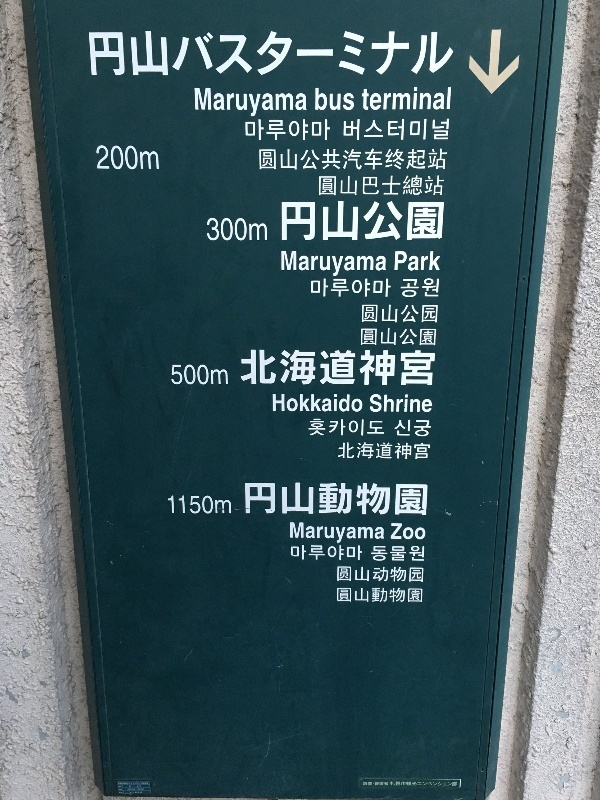text: (97, 29, 112, 82), (113, 29, 128, 82), (129, 29, 144, 82), (145, 29, 160, 82), (161, 29, 176, 82), (177, 29, 192, 82), (193, 29, 208, 82), (209, 29, 224, 82), (225, 29, 240, 82), (241, 29, 256, 82), (257, 29, 272, 82), (273, 29, 288, 82), (289, 29, 304, 82), (305, 29, 320, 82), (321, 29, 336, 82), (337, 29, 352, 82), (353, 29, 368, 82), (369, 29, 384, 82), (385, 29, 400, 82), (401, 29, 416, 82), (417, 29, 432, 82), (433, 29, 448, 82), (241, 345, 256, 390), (257, 345, 272, 390), (273, 345, 288, 390), (289, 345, 304, 390), (305, 345, 320, 390), (321, 345, 336, 390), (337, 345, 352, 390), (353, 345, 368, 390), (369, 345, 384, 390), (385, 345, 400, 390), (401, 345, 416, 390), (417, 345, 432, 390), (289, 200, 304, 244), (305, 200, 320, 244), (321, 200, 336, 244), (337, 200, 352, 244), (353, 200, 368, 244), (369, 200, 384, 244), (385, 200, 400, 244), (401, 200, 416, 244), (417, 200, 432, 244), (257, 479, 272, 521), (273, 479, 288, 521), (289, 479, 304, 521), (305, 479, 320, 521), (321, 479, 336, 521), (337, 479, 352, 521), (353, 479, 368, 521), (369, 479, 384, 521), (385, 479, 400, 521), (401, 479, 416, 521), (433, 200, 446, 244), (145, 142, 161, 174), (244, 479, 256, 521), (417, 479, 429, 521), (97, 142, 112, 174), (113, 142, 128, 174), (129, 142, 144, 174), (87, 29, 96, 82), (209, 85, 224, 116), (225, 85, 240, 116), (241, 85, 256, 116), (257, 85, 272, 116), (273, 85, 288, 116), (289, 85, 304, 116), (209, 216, 224, 246), (225, 216, 240, 246), (241, 216, 256, 246), (289, 249, 304, 279), (305, 249, 320, 279), (321, 249, 336, 279), (337, 249, 352, 279), (353, 249, 368, 279), (369, 249, 384, 279), (369, 85, 384, 114), (385, 85, 400, 114), (401, 85, 416, 114), (417, 85, 432, 114), (433, 85, 448, 114), (257, 116, 272, 145), (273, 116, 288, 145), (289, 116, 304, 145), (305, 116, 320, 145), (194, 85, 208, 116), (321, 87, 336, 115), (337, 87, 352, 115), (353, 117, 368, 144), (369, 117, 384, 144), (385, 117, 400, 144), (401, 117, 416, 144), (417, 117, 432, 144), (433, 117, 448, 144), (273, 147, 288, 174), (289, 147, 304, 174), (305, 147, 320, 174), (321, 147, 336, 174), (337, 147, 352, 174), (353, 147, 368, 174), (369, 147, 384, 174), (385, 147, 400, 174), (401, 147, 416, 174), (417, 147, 432, 174), (433, 147, 448, 174), (401, 249, 416, 276), (417, 249, 432, 276), (401, 275, 416, 302), (417, 275, 432, 302), (177, 362, 192, 389), (193, 362, 208, 389), (209, 362, 224, 389), (385, 390, 400, 416), (401, 390, 416, 416), (417, 390, 432, 416), (258, 147, 272, 174), (321, 174, 336, 199), (337, 174, 352, 199), (353, 174, 368, 199), (369, 174, 384, 199), (385, 174, 400, 199), (401, 174, 416, 199), (417, 174, 432, 199), (321, 276, 336, 301), (337, 276, 352, 301), (353, 276, 368, 301), (369, 276, 384, 301), (369, 302, 384, 327), (385, 302, 400, 327), (401, 302, 416, 327), (417, 302, 432, 327), (369, 326, 384, 351), (385, 326, 400, 351), (401, 326, 416, 351), (417, 326, 432, 351), (401, 416, 416, 441), (417, 416, 432, 441), (177, 493, 192, 518), (193, 493, 208, 518), (209, 493, 224, 518), (369, 416, 385, 439), (369, 519, 385, 542), (370, 390, 384, 416), (273, 392, 288, 415), (289, 392, 304, 415), (305, 392, 320, 415), (321, 392, 336, 415), (337, 392, 352, 415), (321, 416, 336, 439), (337, 416, 352, 439), (353, 416, 368, 439), (305, 519, 320, 542), (321, 519, 336, 542), (337, 519, 352, 542), (353, 519, 368, 542), (257, 216, 268, 246), (305, 542, 320, 564), (321, 542, 336, 564), (337, 542, 352, 564), (337, 564, 352, 586), (353, 564, 368, 586), (369, 564, 384, 586), (385, 564, 400, 586), (401, 564, 416, 586), (433, 174, 446, 199), (290, 519, 304, 542), (245, 116, 256, 145), (321, 116, 332, 145), (449, 29, 455, 82), (337, 441, 352, 462), (353, 441, 368, 462), (369, 441, 384, 462), (385, 441, 400, 462), (401, 441, 416, 462), (417, 441, 432, 462), (401, 521, 416, 542), (385, 544, 400, 565), (401, 544, 416, 565), (337, 586, 352, 607), (353, 586, 368, 607), (369, 586, 384, 607), (385, 586, 400, 607), (401, 586, 416, 607), (281, 200, 288, 244), (290, 542, 304, 564), (371, 544, 384, 565), (353, 392, 364, 415), (309, 416, 320, 439), (343, 117, 352, 144), (353, 542, 364, 564), (280, 249, 288, 279), (311, 276, 320, 301), (433, 345, 438, 390), (167, 493, 176, 518), (433, 249, 441, 276), (433, 275, 441, 302), (390, 521, 400, 542), (417, 521, 427, 542), (385, 276, 393, 301), (360, 326, 368, 351), (225, 493, 233, 518), (417, 544, 426, 565), (417, 564, 425, 586), (433, 302, 440, 327), (362, 85, 368, 114), (417, 586, 425, 607), (394, 249, 400, 276), (362, 302, 368, 327), (171, 362, 176, 389), (225, 362, 230, 389), (433, 326, 438, 351), (395, 416, 400, 441), (305, 85, 309, 116), (401, 780, 416, 788), (417, 780, 432, 788), (433, 780, 448, 788), (316, 87, 320, 115), (369, 781, 384, 788), (385, 249, 388, 279), (449, 85, 452, 114), (390, 780, 400, 788), (449, 780, 458, 788), (353, 87, 355, 115), (449, 117, 451, 144), (318, 174, 320, 199), (363, 781, 368, 788), (207, 216, 208, 246), (385, 781, 389, 788), (433, 390, 434, 416), (433, 416, 434, 441), (271, 392, 272, 415)
